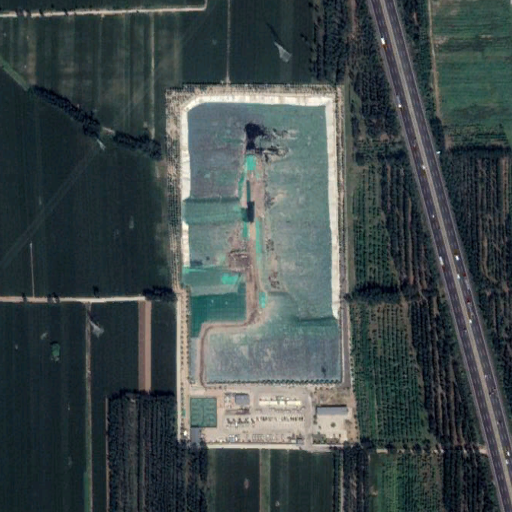lf: (180, 95, 351, 387)
